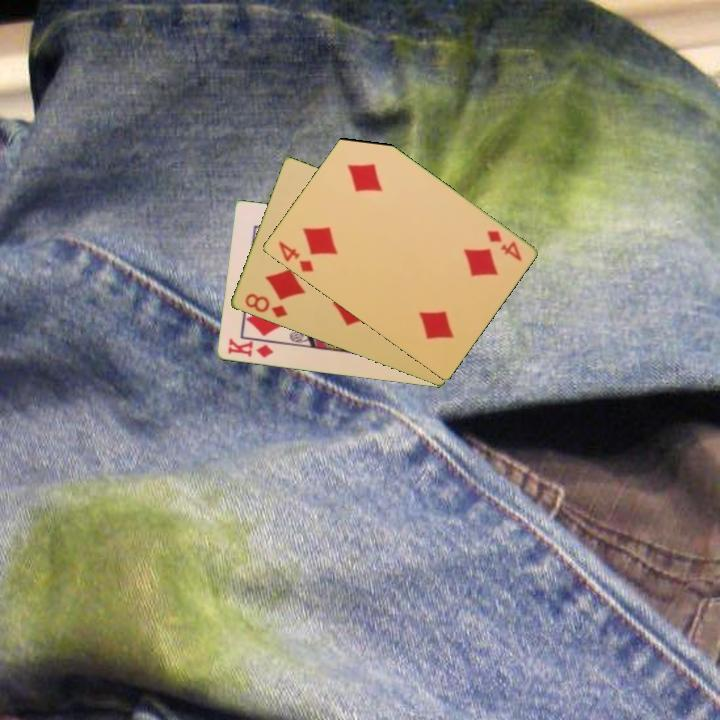4d: (274, 238, 316, 275), (483, 227, 525, 264)
8d: (241, 290, 290, 321)
Kd: (224, 335, 276, 361)
